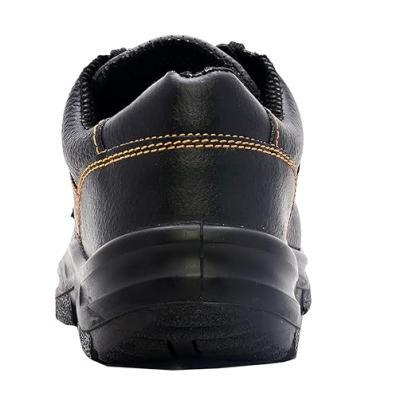bota: (47, 28, 316, 375)
